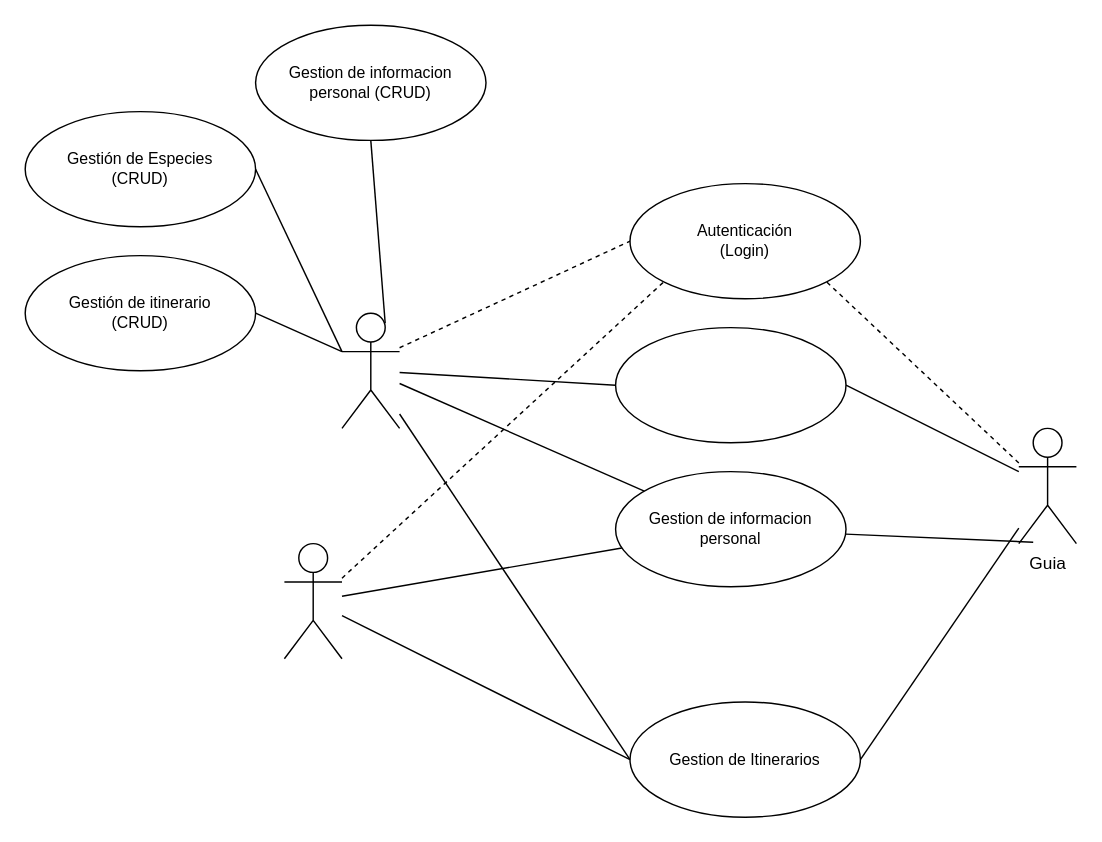
This 1102x842 diagram has some shape labels left out. Each missing label, with the centre of its shape:
Admin: point 370,370
Cuidador: point 312,600
Gestion de especies: point 730,384
